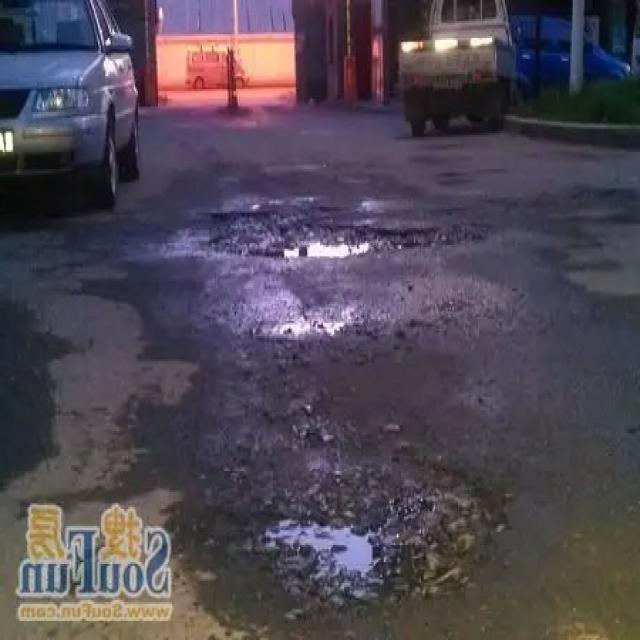pothole: (195, 464, 507, 629), (171, 209, 476, 266), (221, 298, 433, 350)
